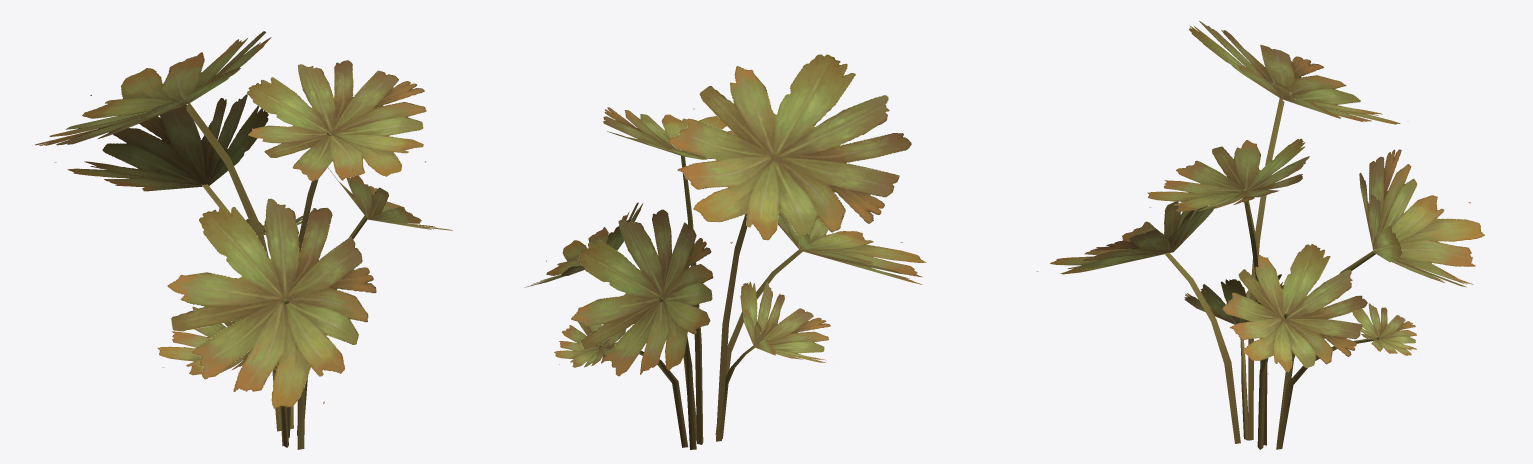
Rendered from Map_08_grass05.FBX.
3 views of the same model, side by side, from view 1: azimuth 30°, elevation 25°; view 2: azimuth 150°, elevation 25°; view 3: azimuth 270°, elevation 25° (orthographic). The views are drawn at different scales.
Parts seen in each view (by area): view 1: Map_08_grass05; view 2: Map_08_grass05; view 3: Map_08_grass05.
Boxes of the visible parts, x1=… form: Map_08_grass05: x1=35, y1=31, x2=452, y2=449; Map_08_grass05: x1=524, y1=54, x2=926, y2=449; Map_08_grass05: x1=1036, y1=20, x2=1484, y2=449.
Bounding box in the file's own units: 283 × 268 × 314.
